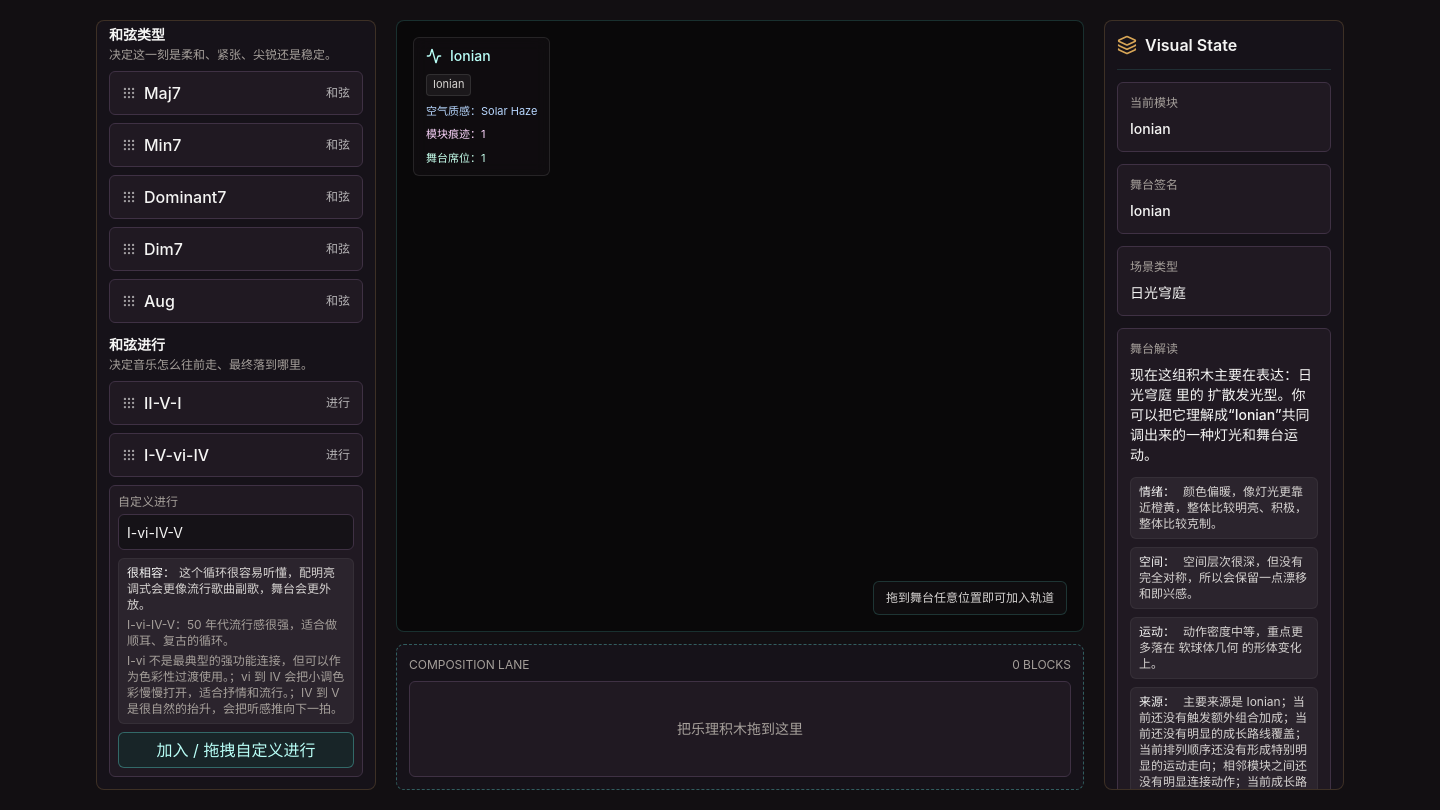
Test: TheorySandbox › recognizes numeric classic progression fragments and pair-level movement
(page scrolled)
Replace the text in the field labelled "自定义进行" with "1251" at (236, 532), box x1=118 y1=514 x2=354 y2=550
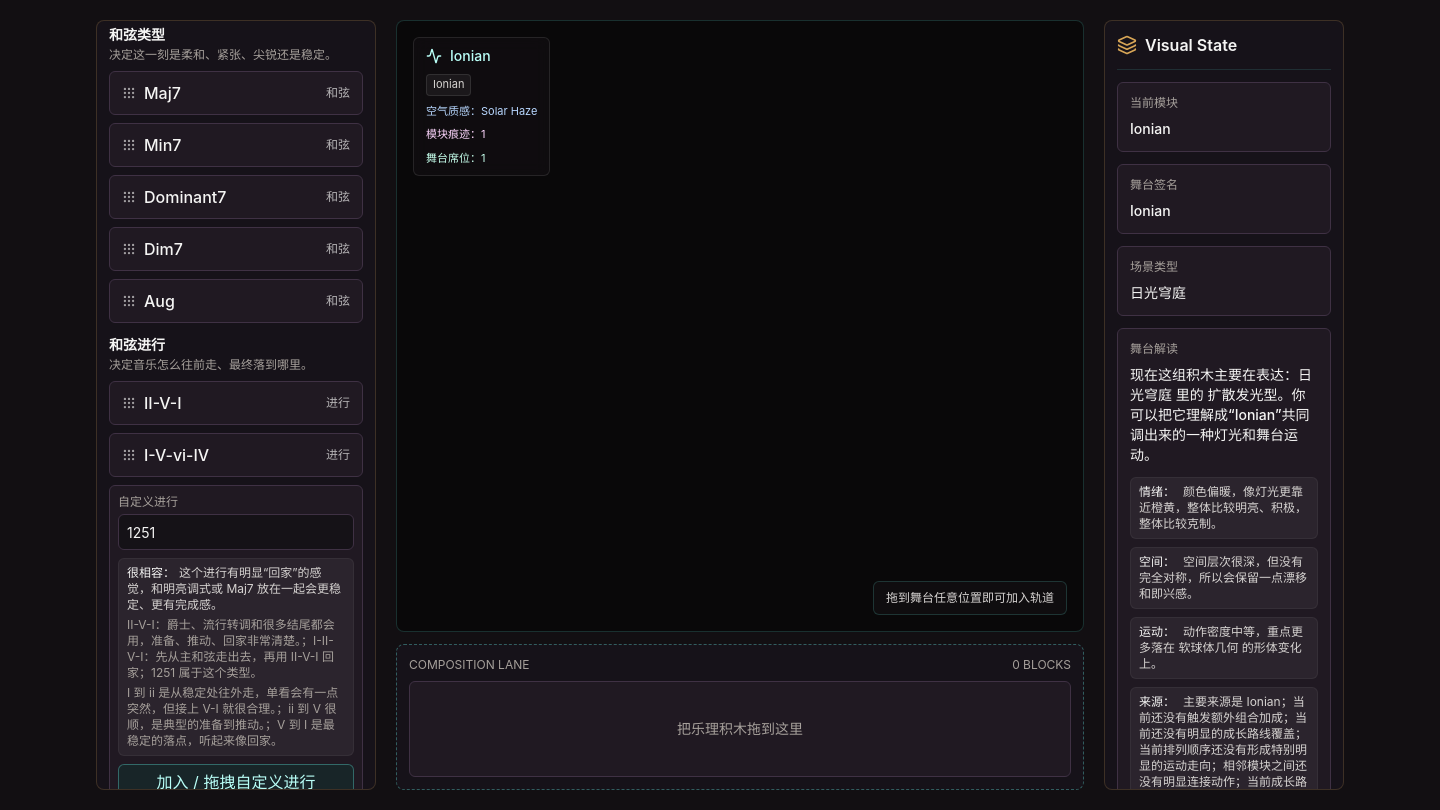
Now the text "I 到 ii 是从稳定处往外走" is shown, box x1=127 y1=685 x2=338 y2=748
Replace the text in the field labelled "自定义进行" with "4536" at (236, 532), box x1=118 y1=514 x2=354 y2=550
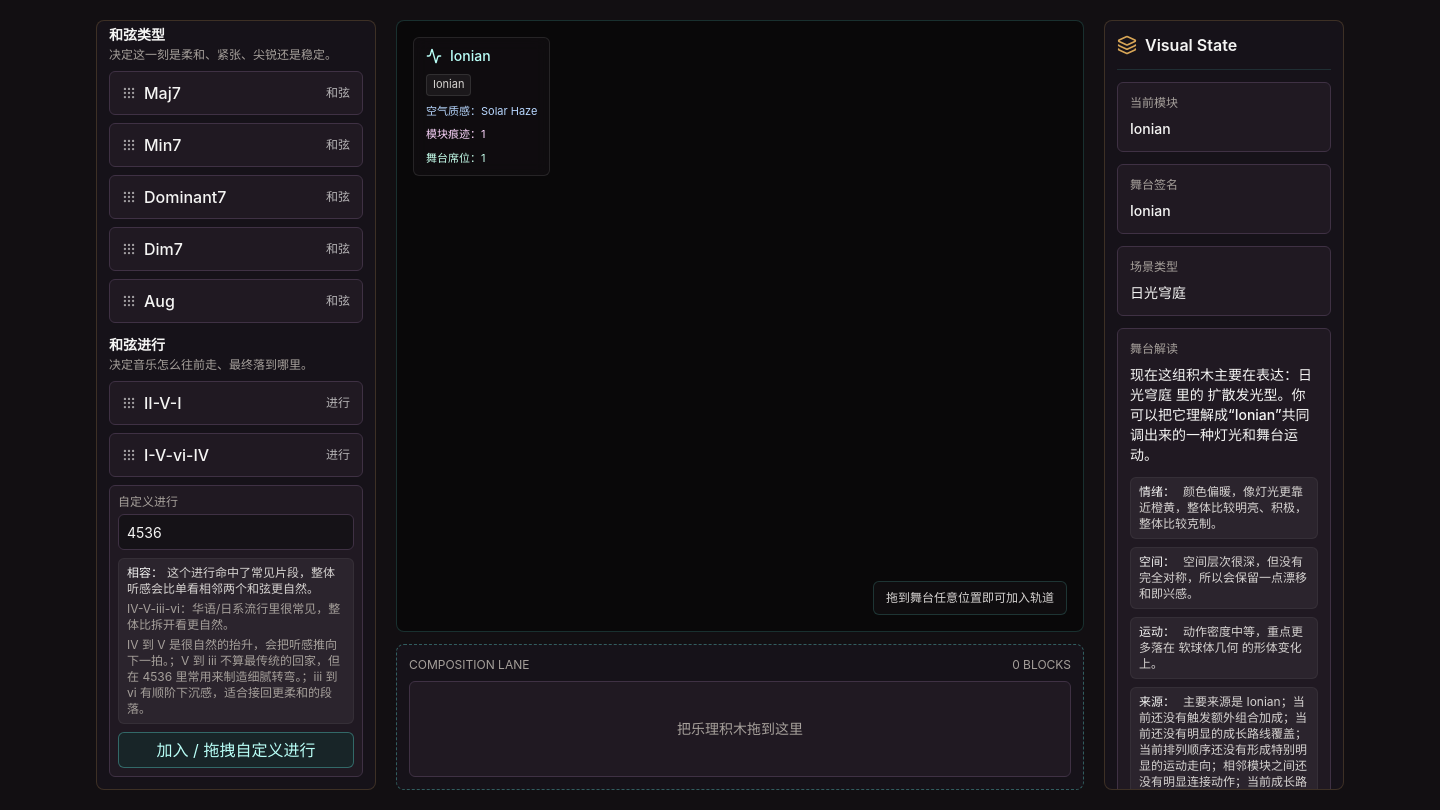
Now the text "IV-V-iii-vi：华语/日系流行里很常见，整体比拆开看更自然。" is shown, box x1=127 y1=601 x2=345 y2=633
